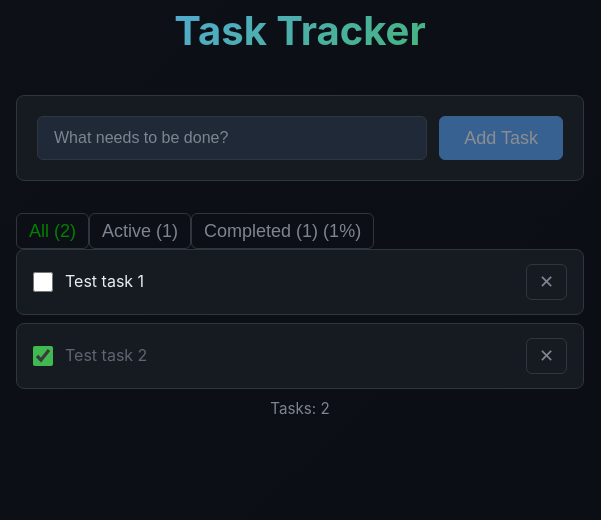
it: App Component › Error Handling › displays error when create task fails
Expected: the text "Test task 1" is shown, [65,271,144,291]
Type "New task" into the field with placeholder "What needs to be done?" at (232, 138), box [37,116,427,160]
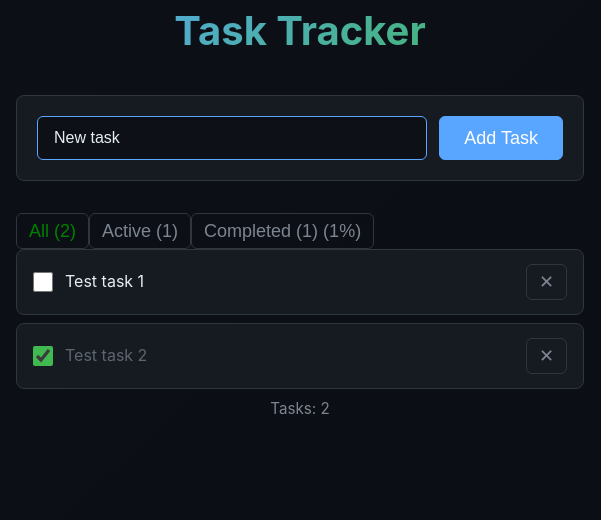
Click the button "Add Task" at (501, 138), box [439,116,563,160]
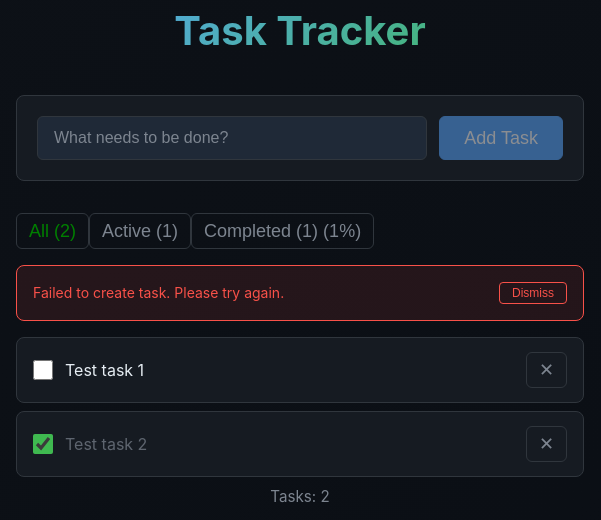
Expected: the text "Failed to create task. Please try again." is shown, [33,282,284,304]
